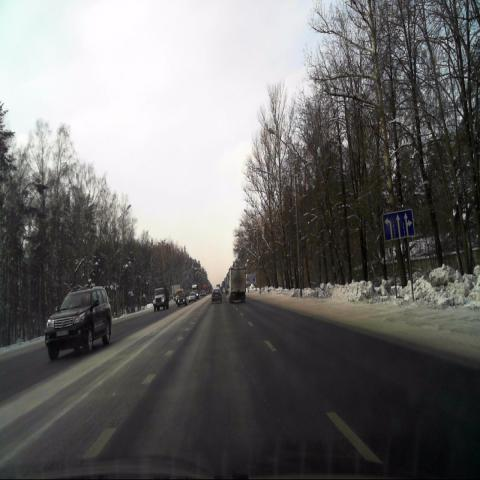5_15_1: (382, 209, 414, 240)
